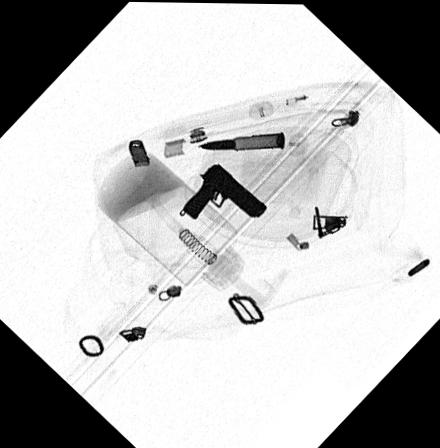Bullet: (196, 131, 283, 149)
Gun: (179, 161, 268, 218)
